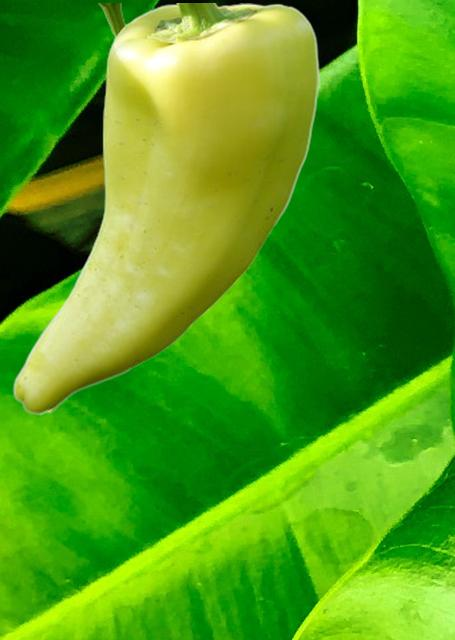green_chili: (12, 3, 319, 415)
